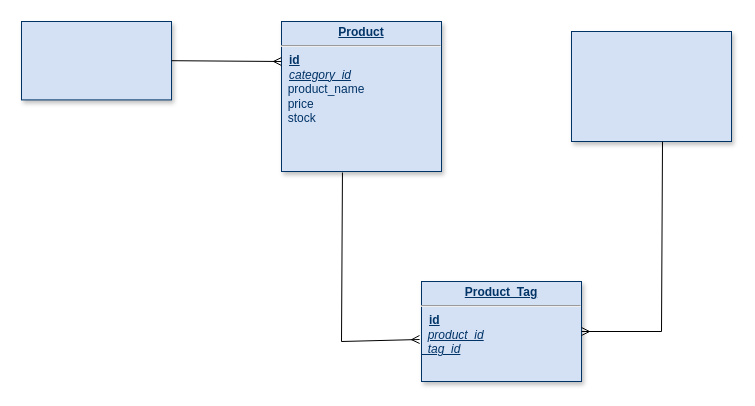
Some shapes in this 755 by 406 pixel diagram are drawn without their labels. The shapes that lost their labels are listed below. From the top down, each one's centre as x and y in pixels, then its label:
At (x=97, y=61): "Category id category_name".
At (x=652, y=87): "Tag id tag_name".
